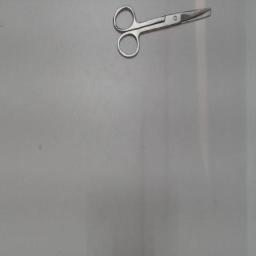Dressing Scissors: (108, 2, 218, 64)
